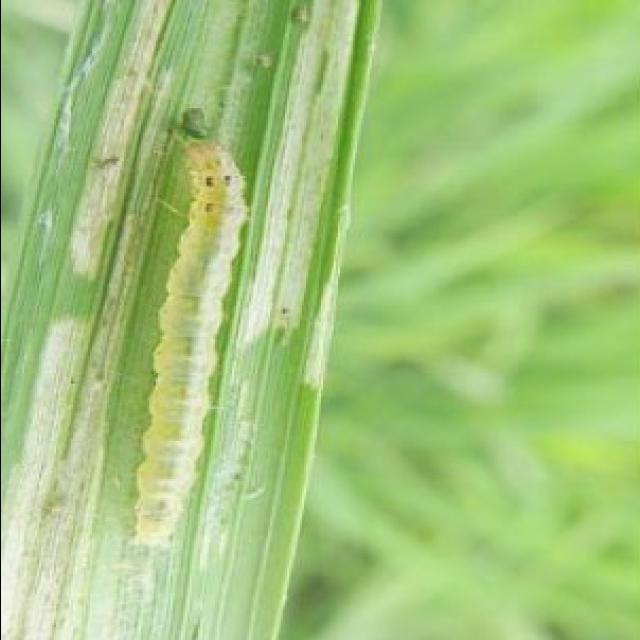rice leaf roller: (136, 142, 246, 545)
